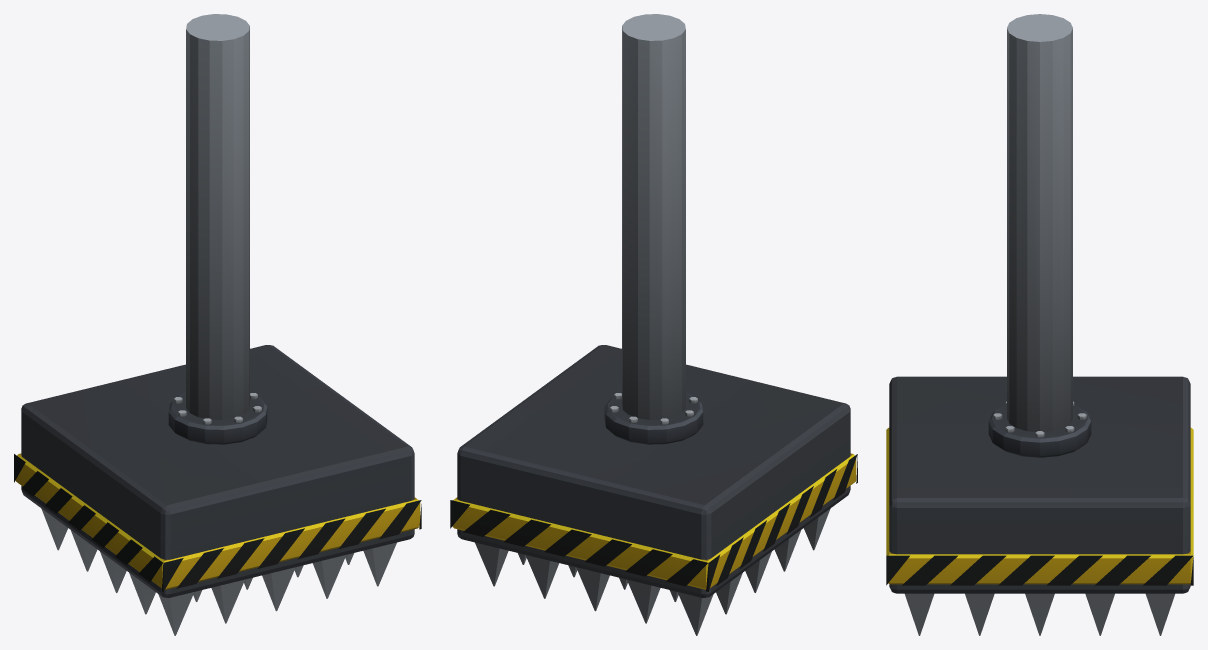
The model's file is crusher.glb.
3 renders of one model, left to right at view 1: azimuth 30°, elevation 25°; view 2: azimuth 150°, elevation 25°; view 3: azimuth 270°, elevation 25°, orthographic. The views are drawn at different scales.
Visible parts, largest first — view 1: Body; view 2: Body; view 3: Body.
Boxes of the visible parts, x1,y1,x2,y2 form: Body: [14, 14, 421, 635]; Body: [450, 14, 857, 635]; Body: [886, 14, 1193, 635].
Bounding box in the file's own units: 2.04 × 4.08 × 2.04.
